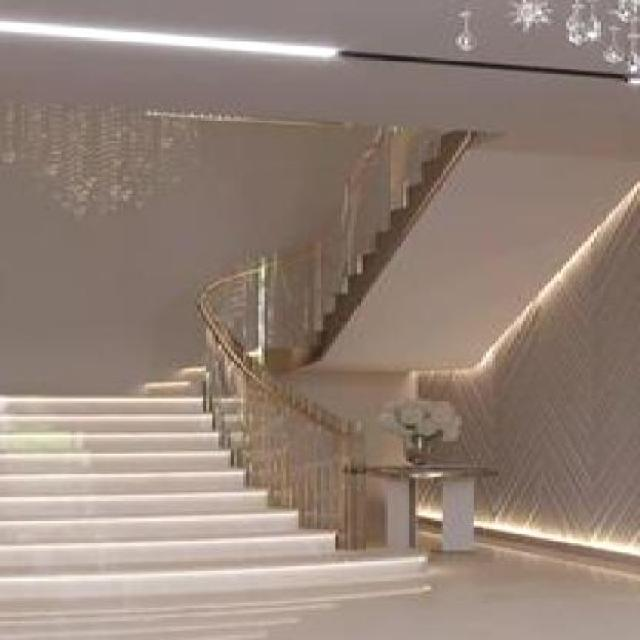stair: (0, 364, 471, 596)
